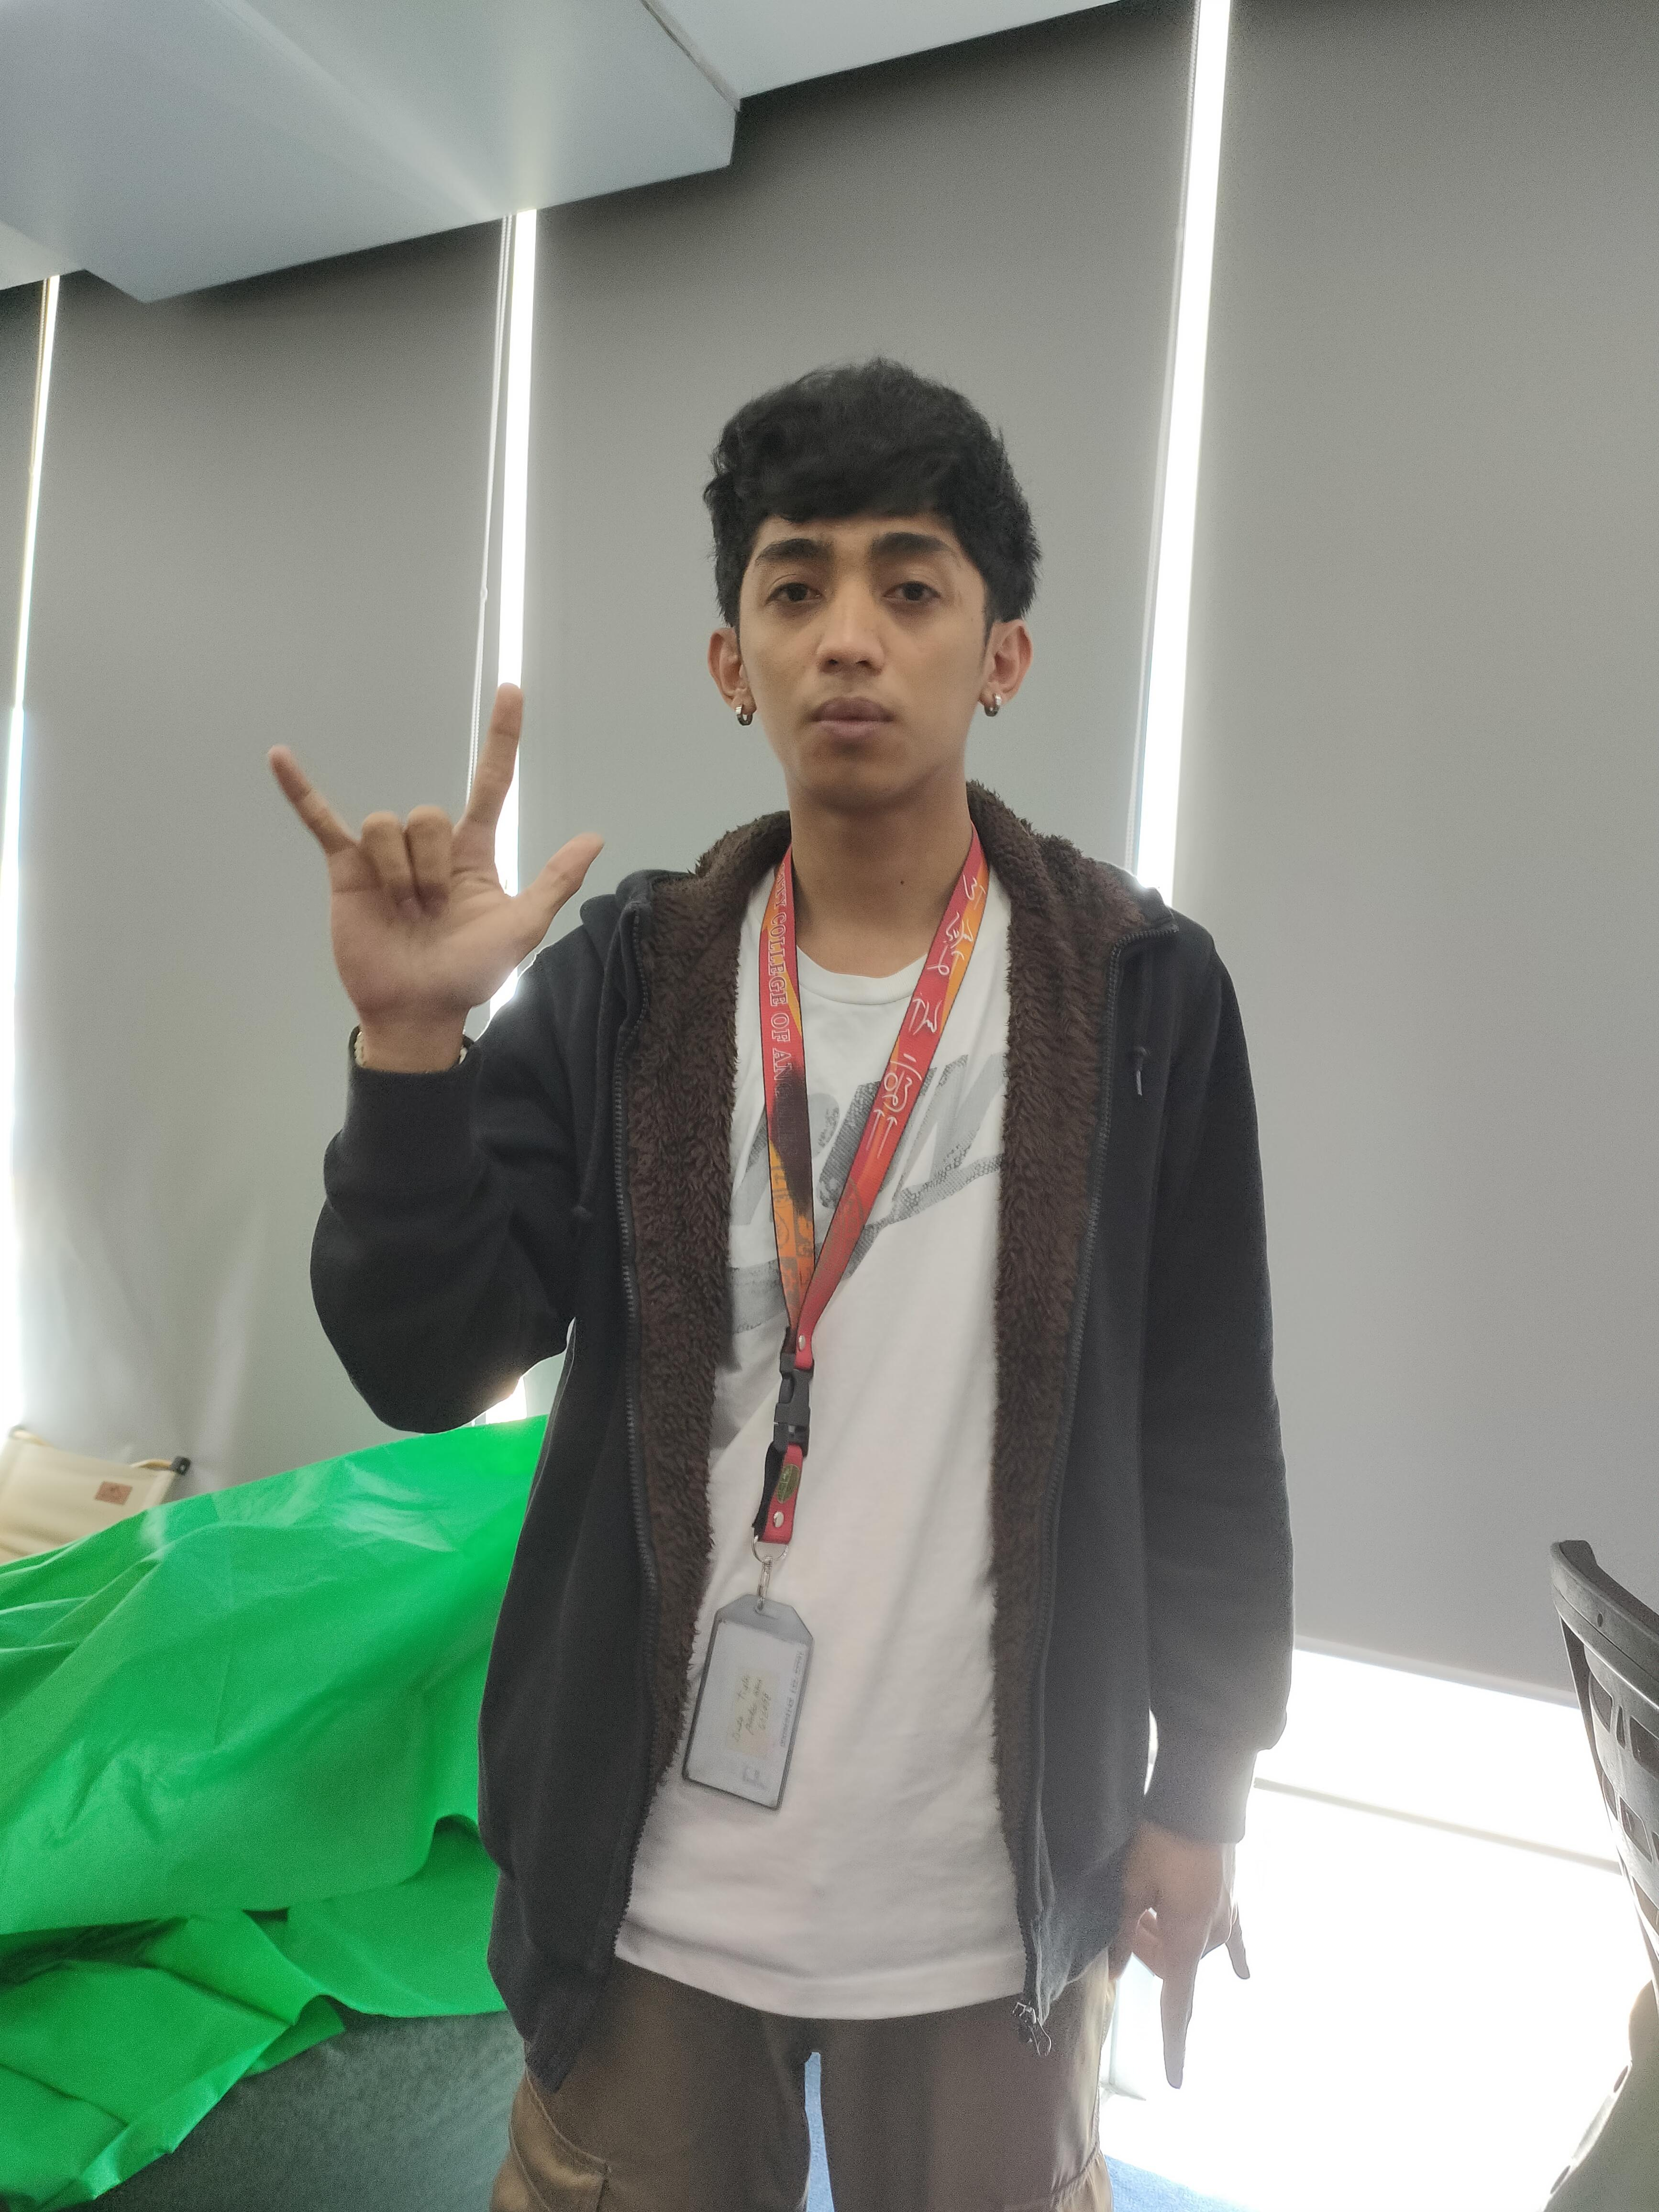Love_you: (261, 655, 605, 1029)
